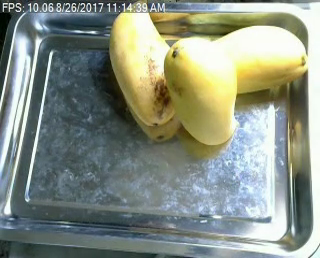Mango: (109, 0, 180, 125), (185, 24, 307, 96), (168, 36, 242, 145)
